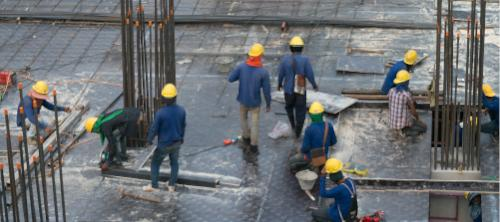helmet: (162, 83, 179, 98), (326, 159, 343, 174), (480, 83, 495, 98), (250, 44, 265, 58), (85, 117, 97, 133), (33, 82, 49, 94), (406, 50, 418, 66), (396, 72, 411, 84), (311, 102, 324, 114), (291, 37, 305, 48)
